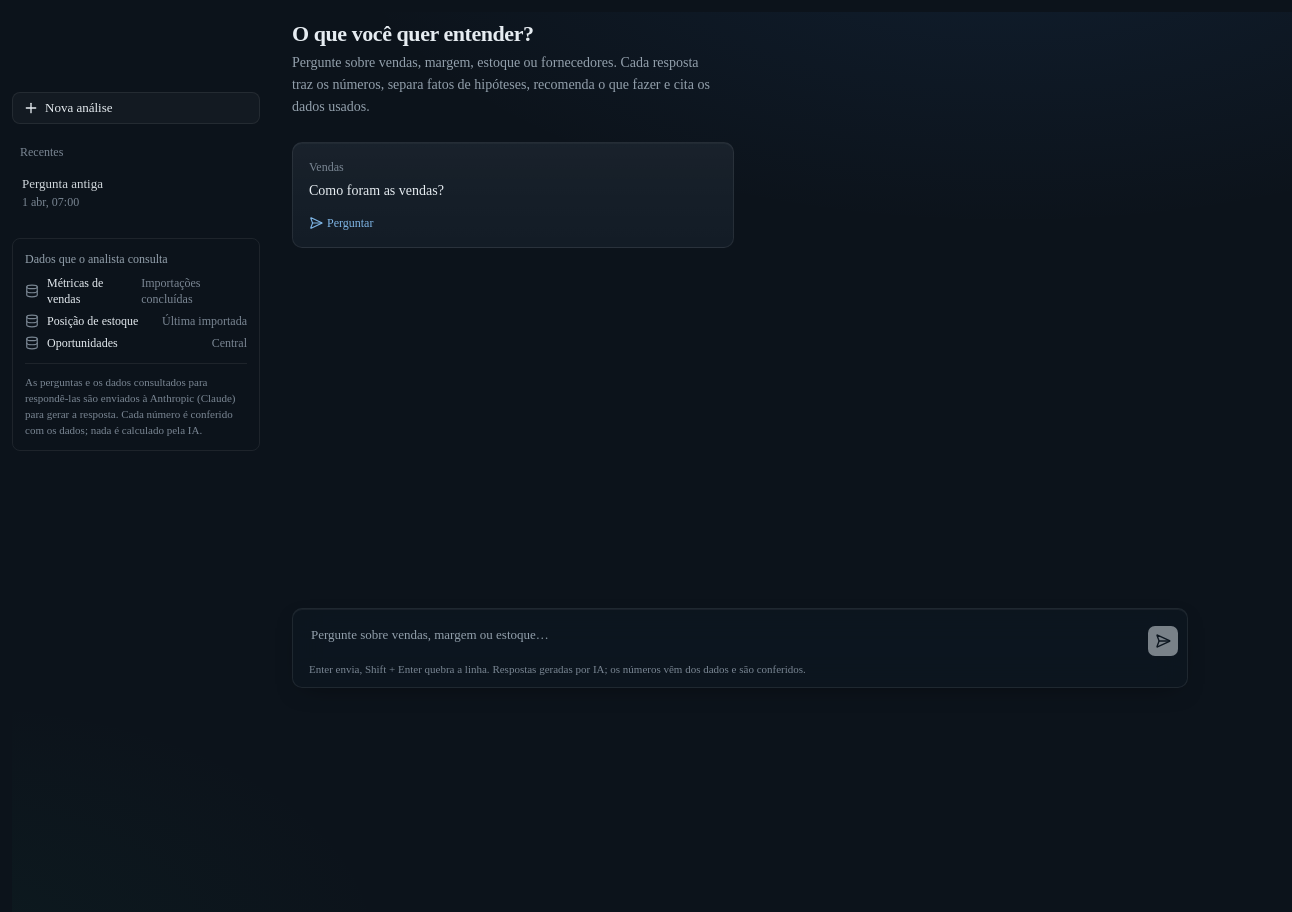
Test case: analista ao vivo › abrir uma conversa salva carrega as mensagens dela
Click the button "Pergunta antiga 1 abr, 07:00" at (136, 192), box x1=12 y1=166 x2=260 y2=218
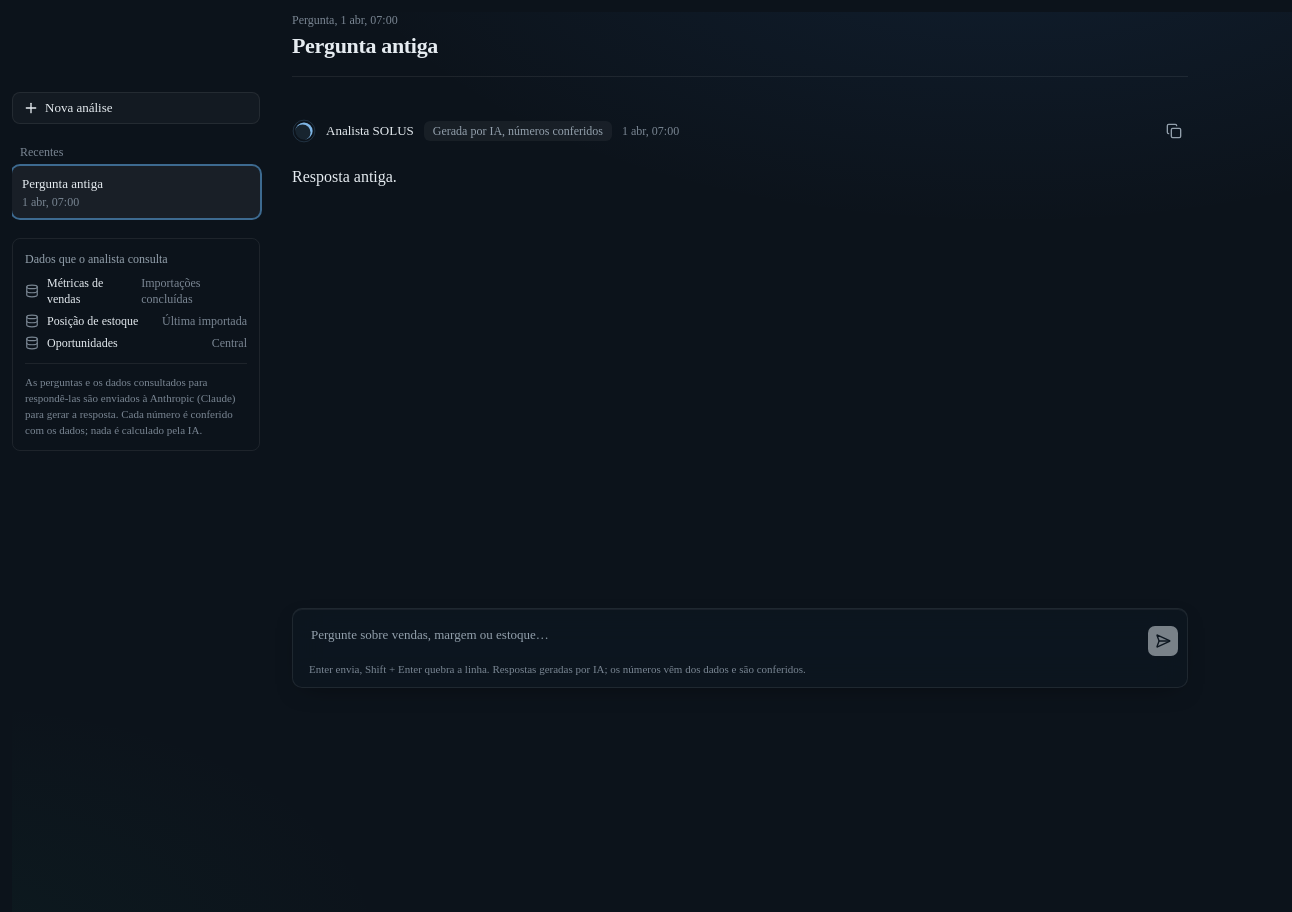
Result: the text "Resposta antiga." is shown at x1=292 y1=168 x2=397 y2=185
